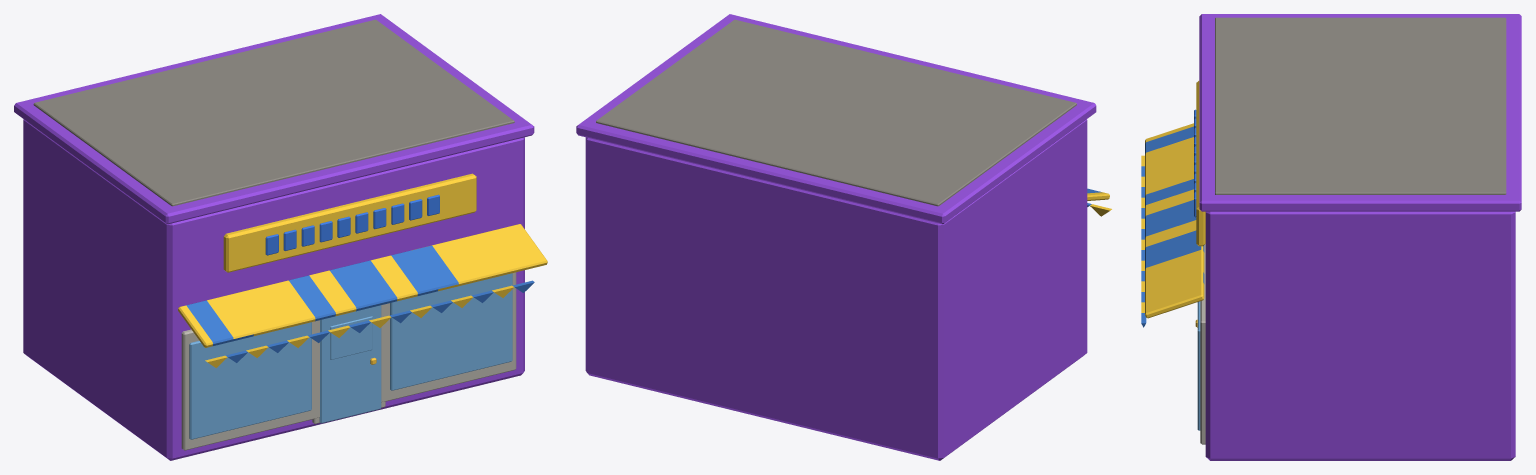
The model's file is ToyStore.fbx.
3 renders of one model, left to right at view 1: azimuth 30°, elevation 25°; view 2: azimuth 150°, elevation 25°; view 3: azimuth 270°, elevation 25°, orthographic. The views are drawn at different scales.
Parts seen in each view (by area): view 1: ToyStore; view 2: ToyStore; view 3: ToyStore.
Boxes of the visible parts, box(x1,y1,x2,y2) form: ToyStore: box(14, 14, 547, 460); ToyStore: box(576, 14, 1111, 460); ToyStore: box(1141, 14, 1521, 460).
Bounding box in the file's own units: 14.4 × 9.48 × 12.28.
1 material, 1 textured.
